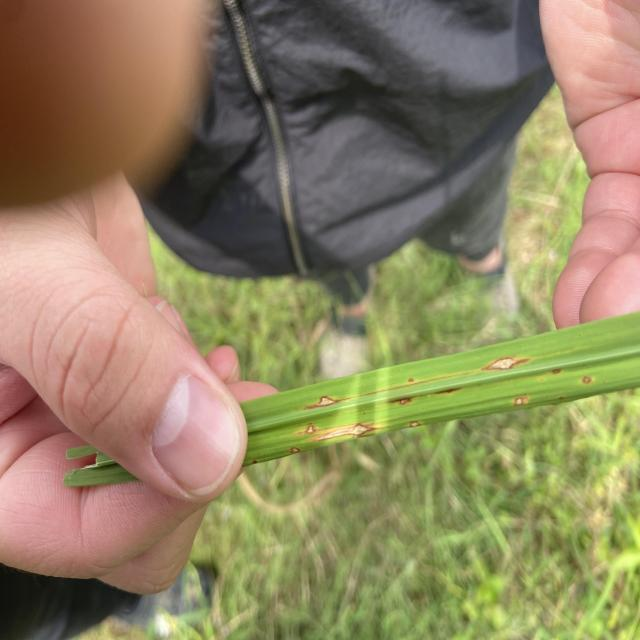Dao on: (308, 422, 390, 442), (482, 356, 530, 371), (302, 396, 348, 410), (294, 424, 320, 435), (409, 420, 421, 428), (289, 446, 300, 454), (514, 397, 523, 406), (582, 376, 592, 384), (551, 368, 561, 375), (399, 399, 406, 405)
